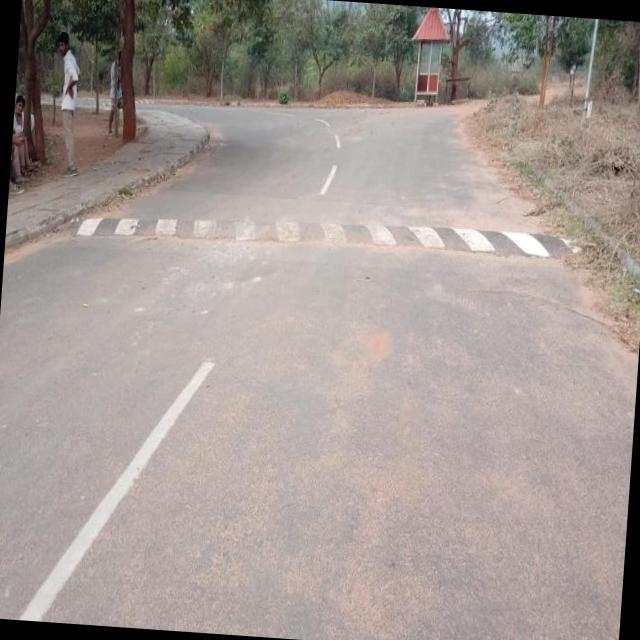bump: (76, 184, 566, 280)
